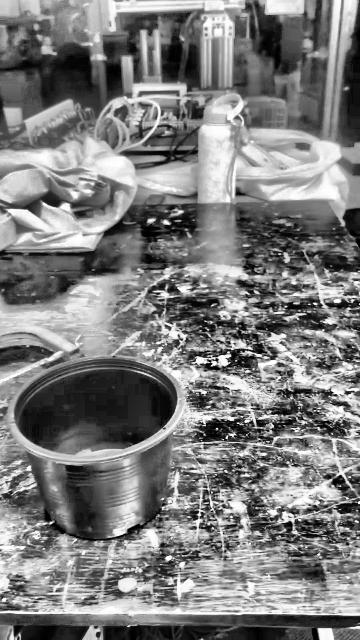pot: (11, 357, 181, 539)
